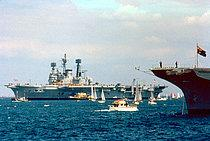MIL_Ship: (4, 53, 169, 100)
